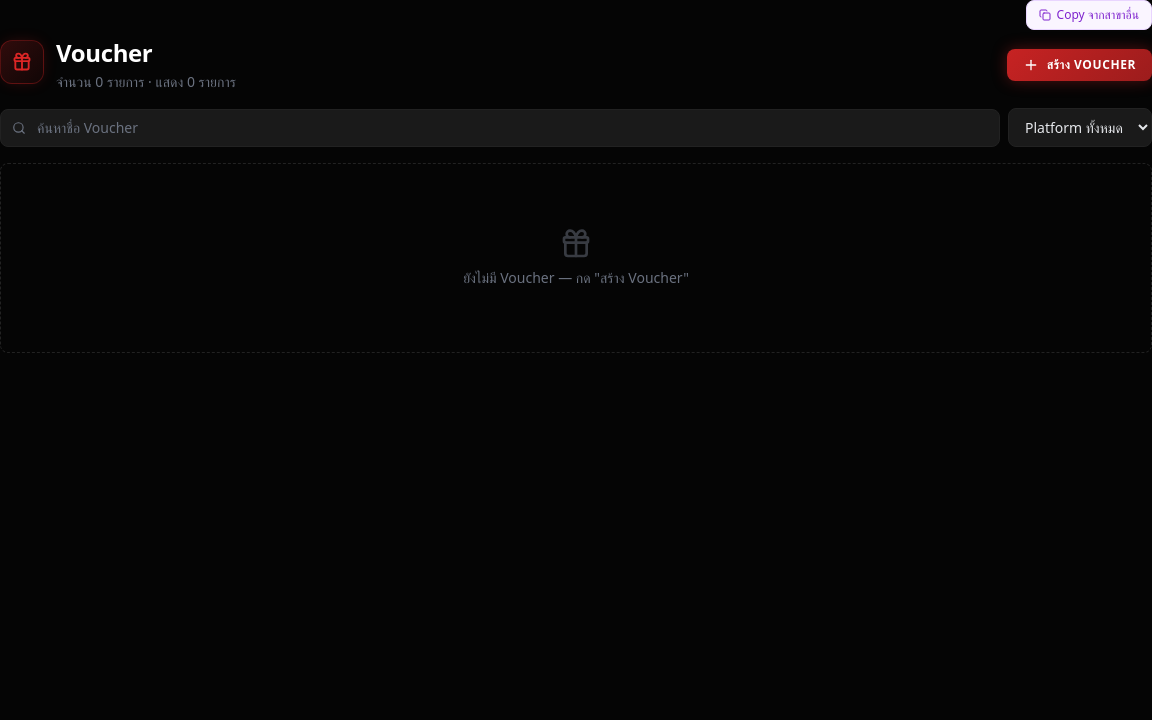
Test case: VoucherTab — create + validate › VC9 platform dropdown includes all 6
Click the button "สร้าง Voucher". click: click(1079, 65)
box: [1007,49,1151,81]
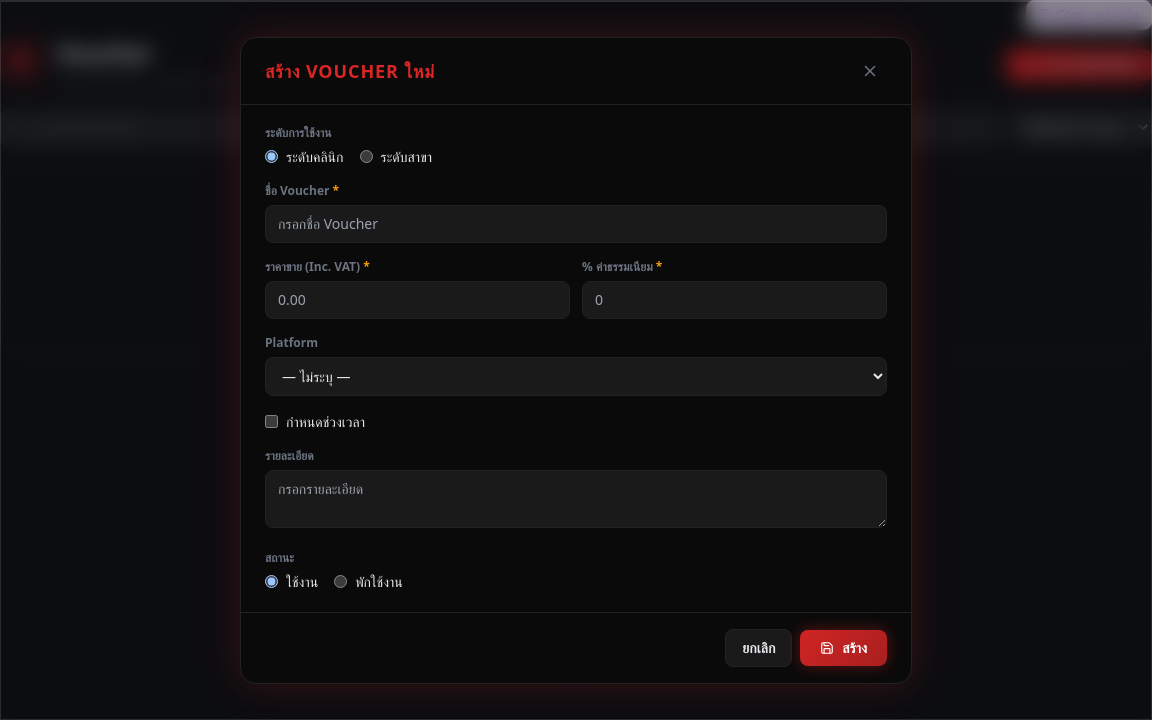
Expected: the heading "สร้าง Voucher ใหม่" is shown, [265,56,435,84]
